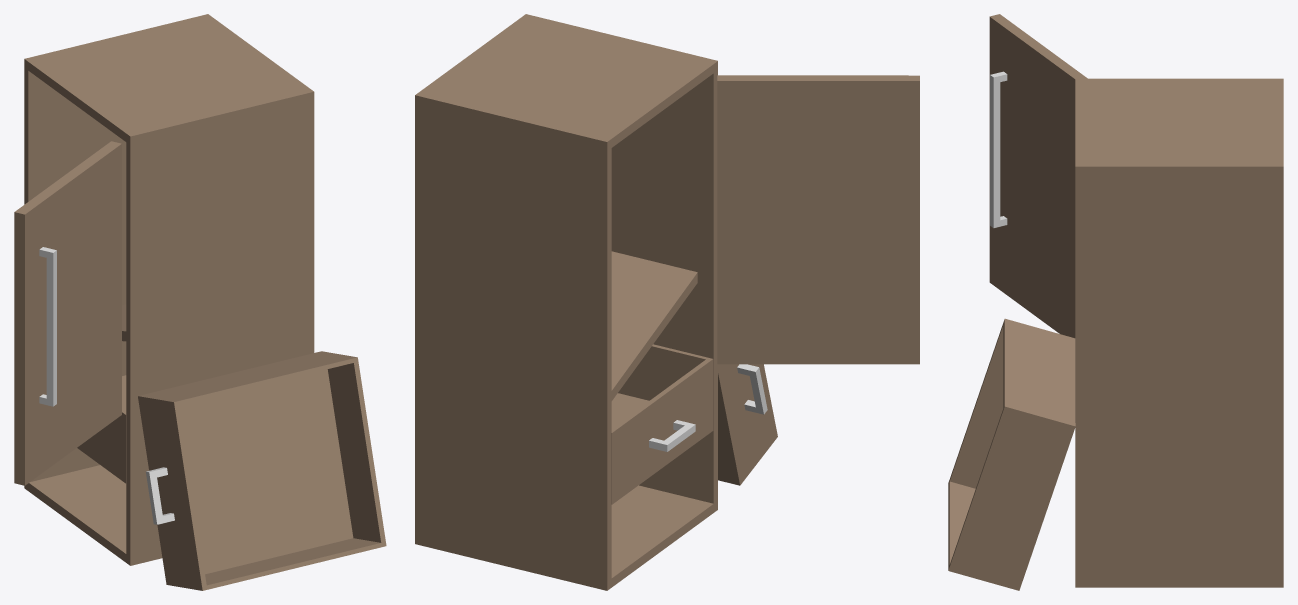
File: armoire demontee.fbx
3 views of the same model, side by side, from view 1: azimuth 30°, elevation 25°; view 2: azimuth 150°, elevation 25°; view 3: azimuth 270°, elevation 25° (orthographic). The views are drawn at different scales.
Parts seen in each view (by area): view 1: armoire_demontee; view 2: armoire_demontee; view 3: armoire_demontee.
Boxes of the visible parts, bbox=[...] form: armoire_demontee: bbox=[14, 14, 386, 590]; armoire_demontee: bbox=[415, 14, 919, 590]; armoire_demontee: bbox=[948, 14, 1283, 590].
Bounding box in the file's own units: 1.88 × 2.23 × 1.61.
